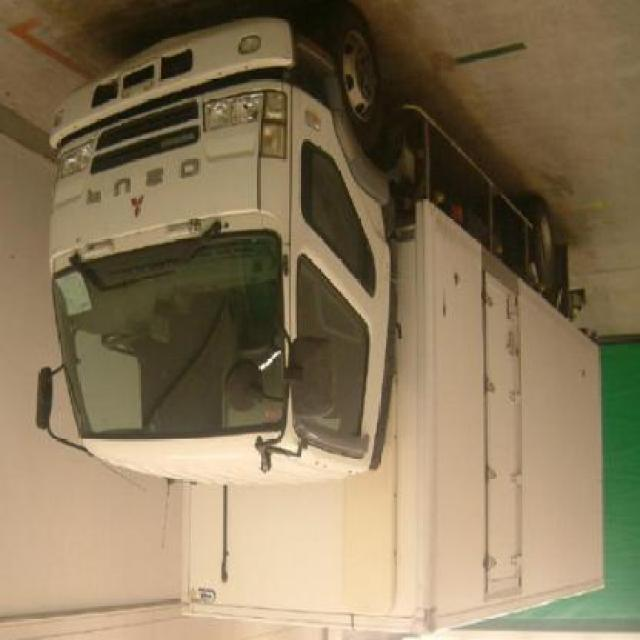truck: (41, 20, 604, 637)
